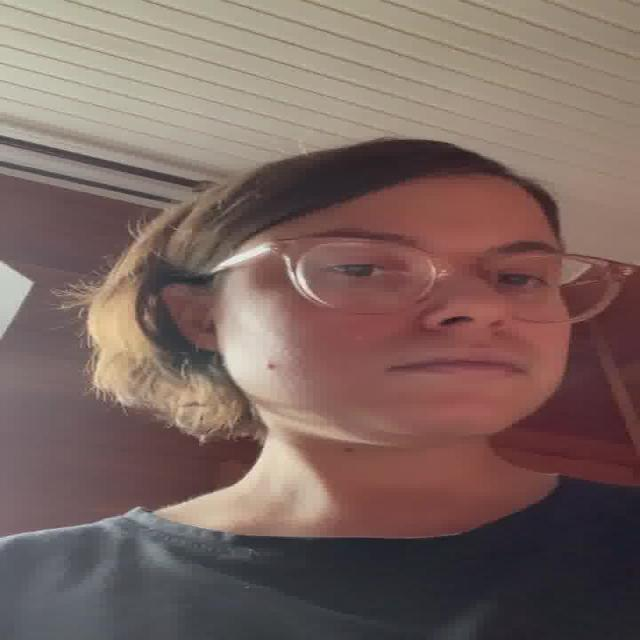earlobe: (161, 282, 219, 353)
